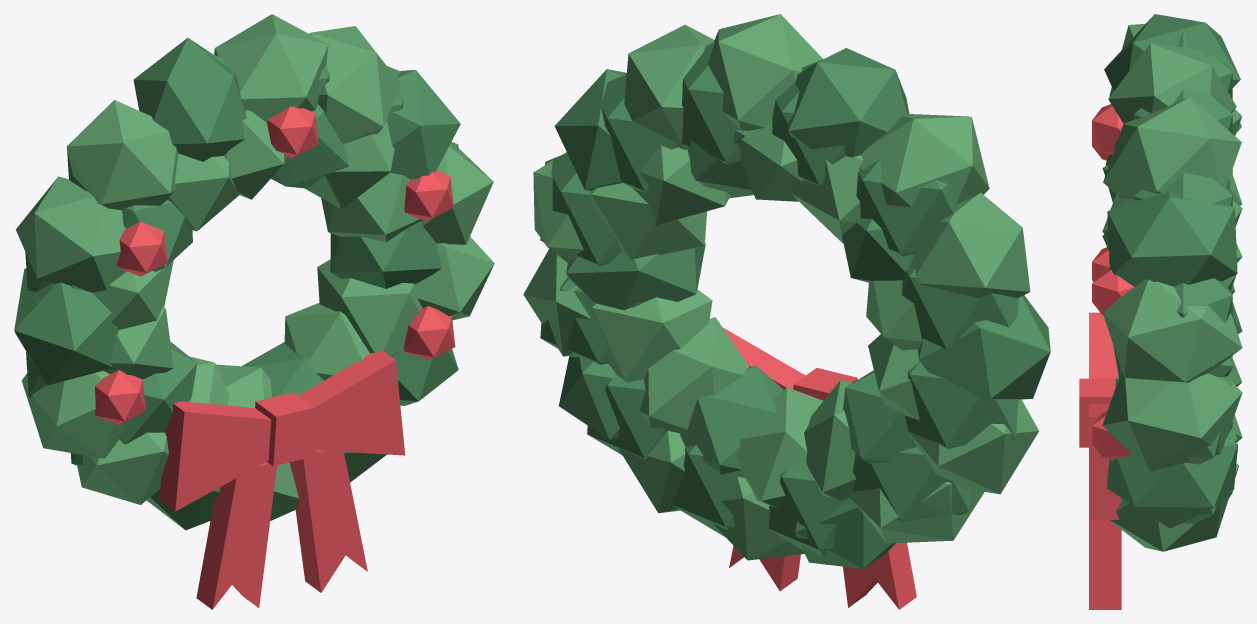
File: Wreath.glb
3 views of the same model, side by side, from view 1: azimuth 30°, elevation 25°; view 2: azimuth 150°, elevation 25°; view 3: azimuth 270°, elevation 25° (orthographic). The views are drawn at different scales.
Parts seen in each view (by area): view 1: Pine, Red, PineDark; view 2: Pine, PineDark, Red; view 3: Pine, PineDark, Red.
Part boxes in pixels (box(x1,y1,x2,y2)): Pine: box(15, 14, 494, 520); Red: box(95, 106, 455, 609); PineDark: box(14, 38, 460, 530); Pine: box(523, 14, 1038, 560); PineDark: box(540, 42, 1050, 568); Red: box(722, 327, 916, 609); Pine: box(1102, 23, 1242, 551); PineDark: box(1104, 14, 1242, 528); Red: box(1079, 104, 1133, 609).
Size of the model in its own units: 1.03 by 1.15 by 0.3108.
